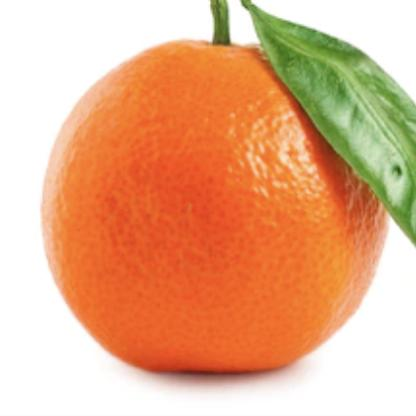fresh: (41, 35, 382, 374)
